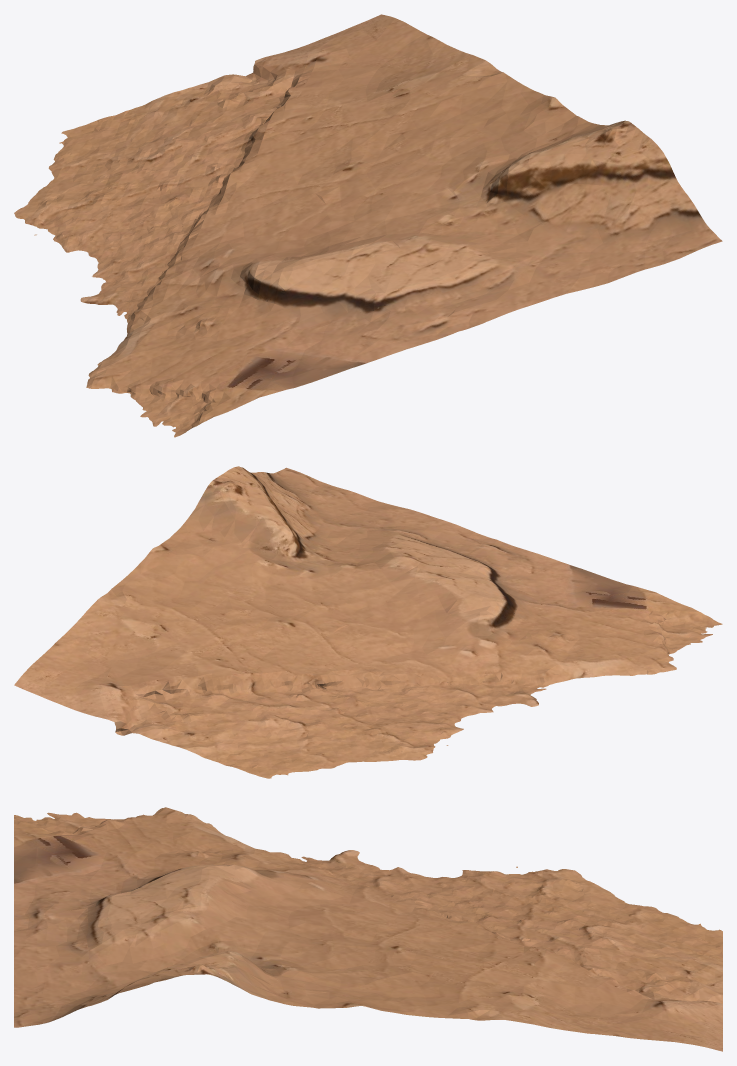
The picture shows the model from 3 angles, top to bottom: view 1: azimuth 30°, elevation 25°; view 2: azimuth 150°, elevation 25°; view 3: azimuth 270°, elevation 25°; orthographic projection. The views are drawn at different scales.
Size of the model in its own units: 0.9949 by 0.1922 by 1.04.
Materials: 2 (2 with a texture image).
